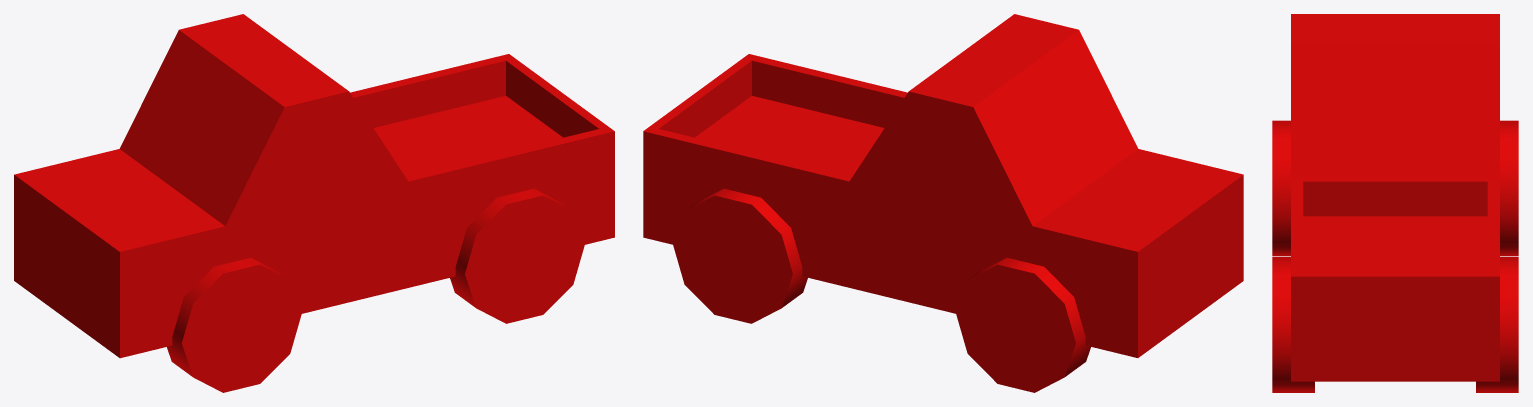
File: WoodTruckB.fbx
3 renders of one model, left to right at view 1: azimuth 30°, elevation 25°; view 2: azimuth 150°, elevation 25°; view 3: azimuth 270°, elevation 25°, orthographic.
Parts seen in each view (by area): view 1: WoodTruckB; view 2: WoodTruckB; view 3: WoodTruckB.
Part boxes in pixels (bbox=[...]): WoodTruckB: bbox=[14, 14, 614, 392]; WoodTruckB: bbox=[643, 14, 1243, 392]; WoodTruckB: bbox=[1272, 14, 1518, 392].
Bounding box in the file's own units: 51.83 × 26.19 × 22.59.
